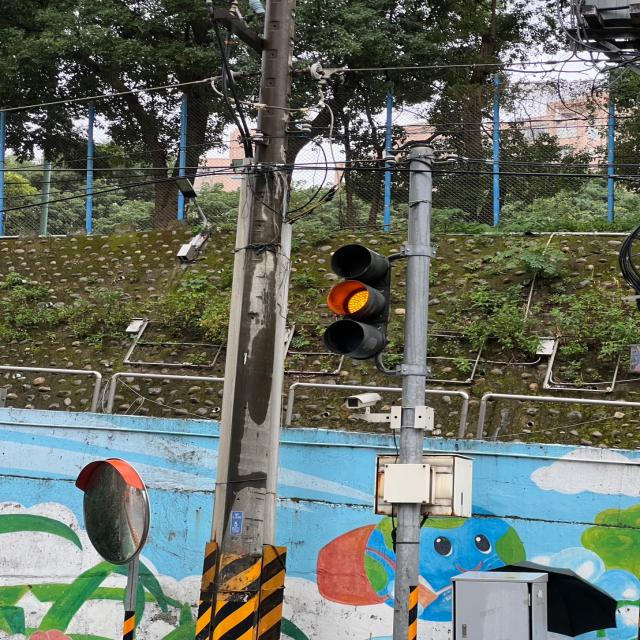yellow light: (325, 243, 390, 357)
